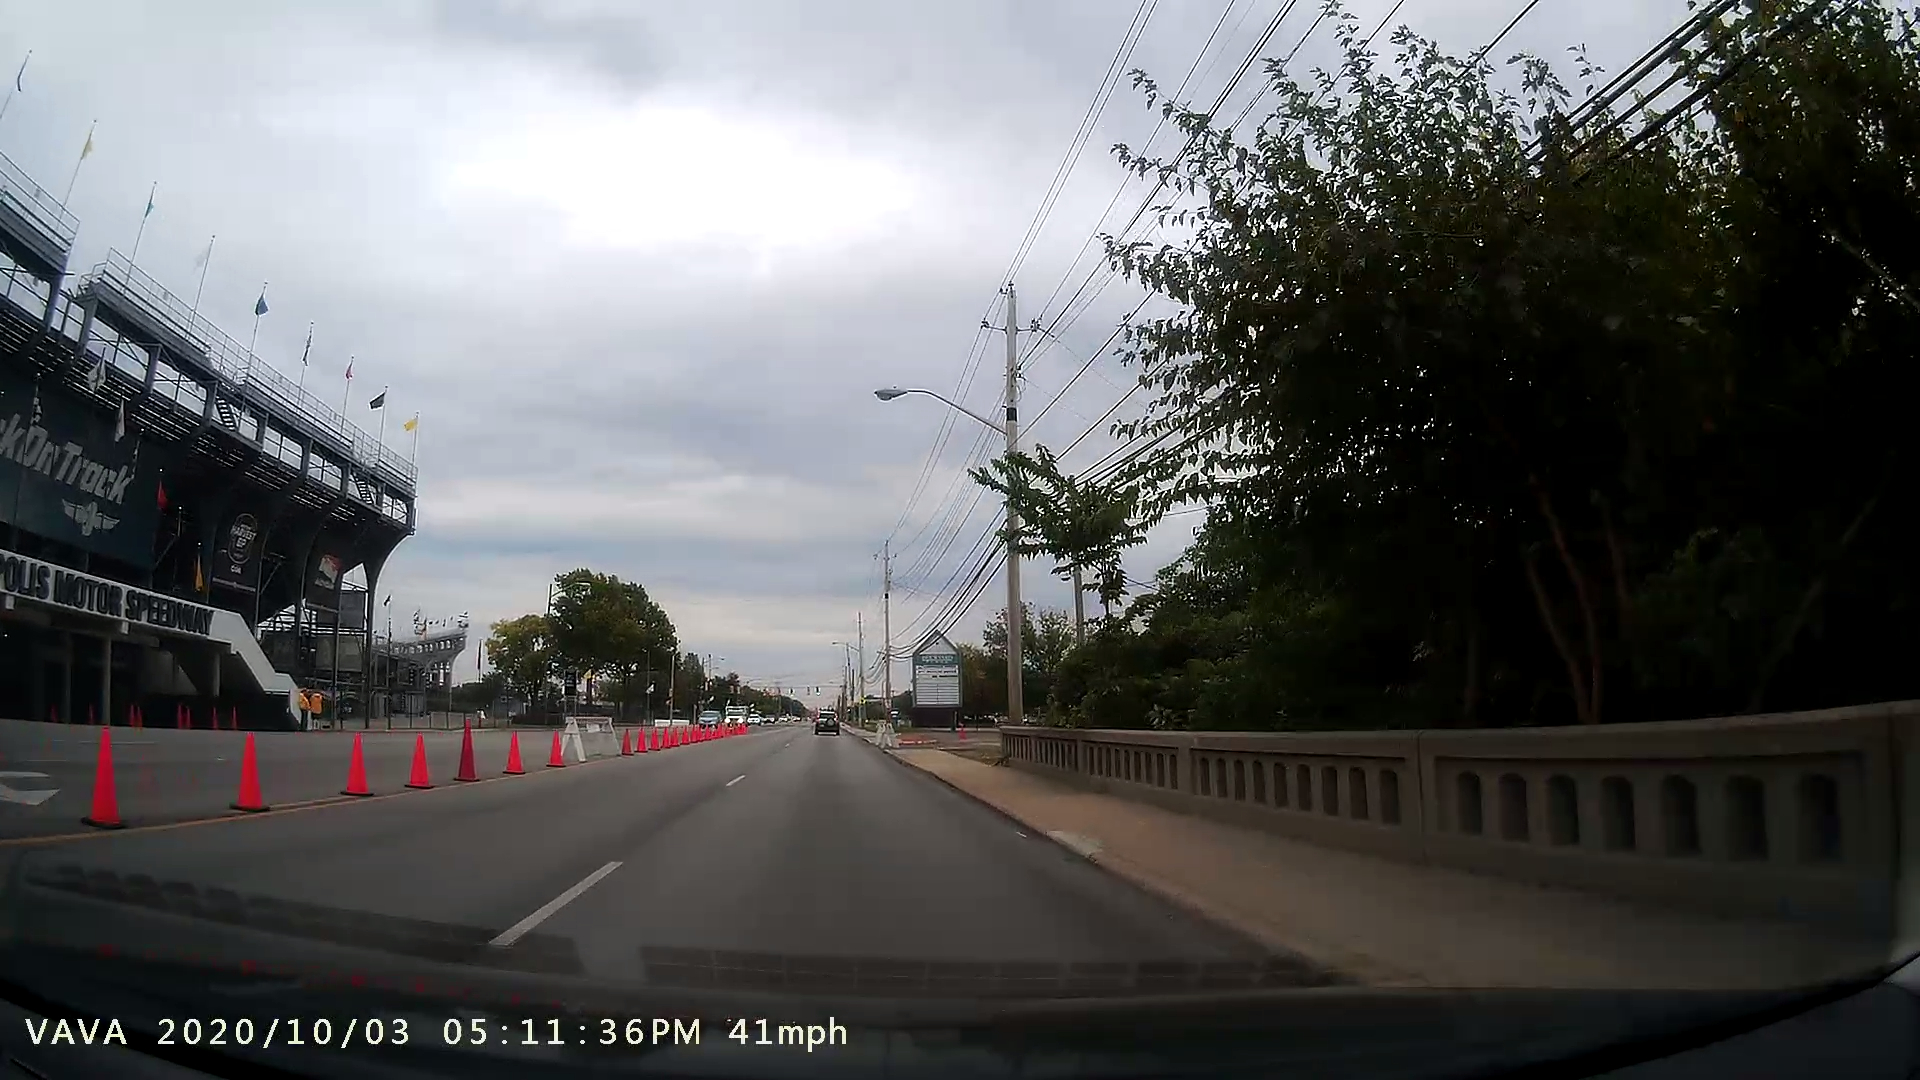const_cone: (61, 700, 136, 835), (222, 725, 281, 816), (335, 713, 381, 804), (442, 694, 483, 790), (400, 713, 436, 798), (497, 723, 527, 795), (539, 725, 568, 774)
